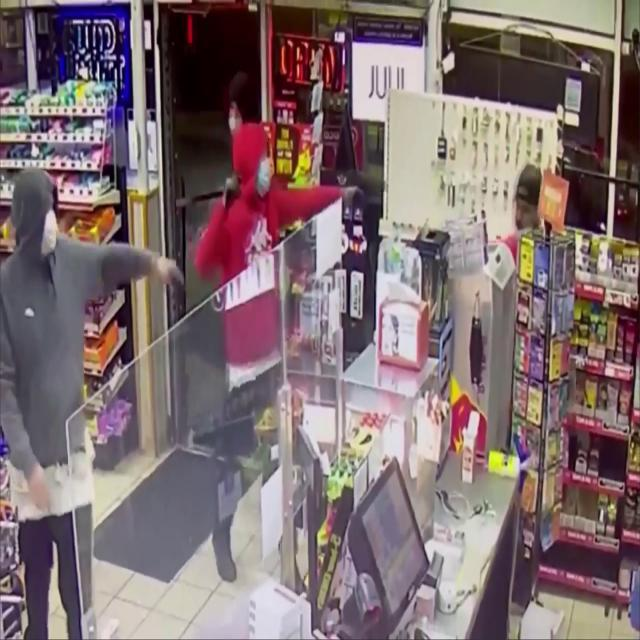Gun: (349, 164, 389, 210)
